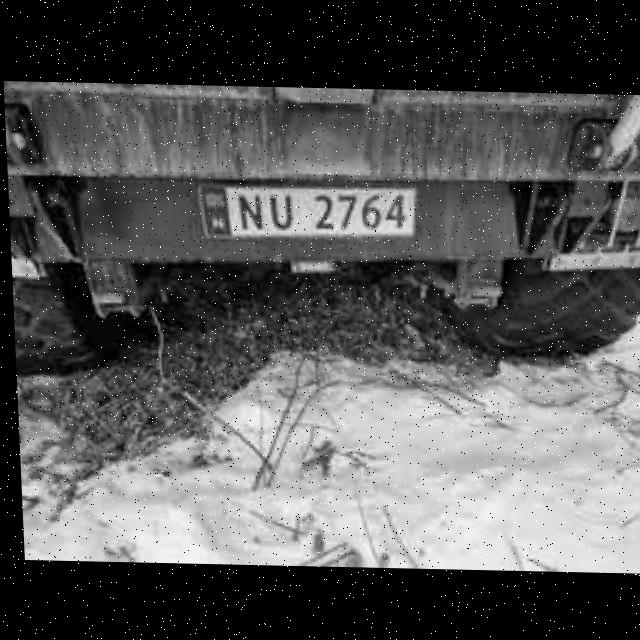license-plates: (202, 186, 417, 240)
